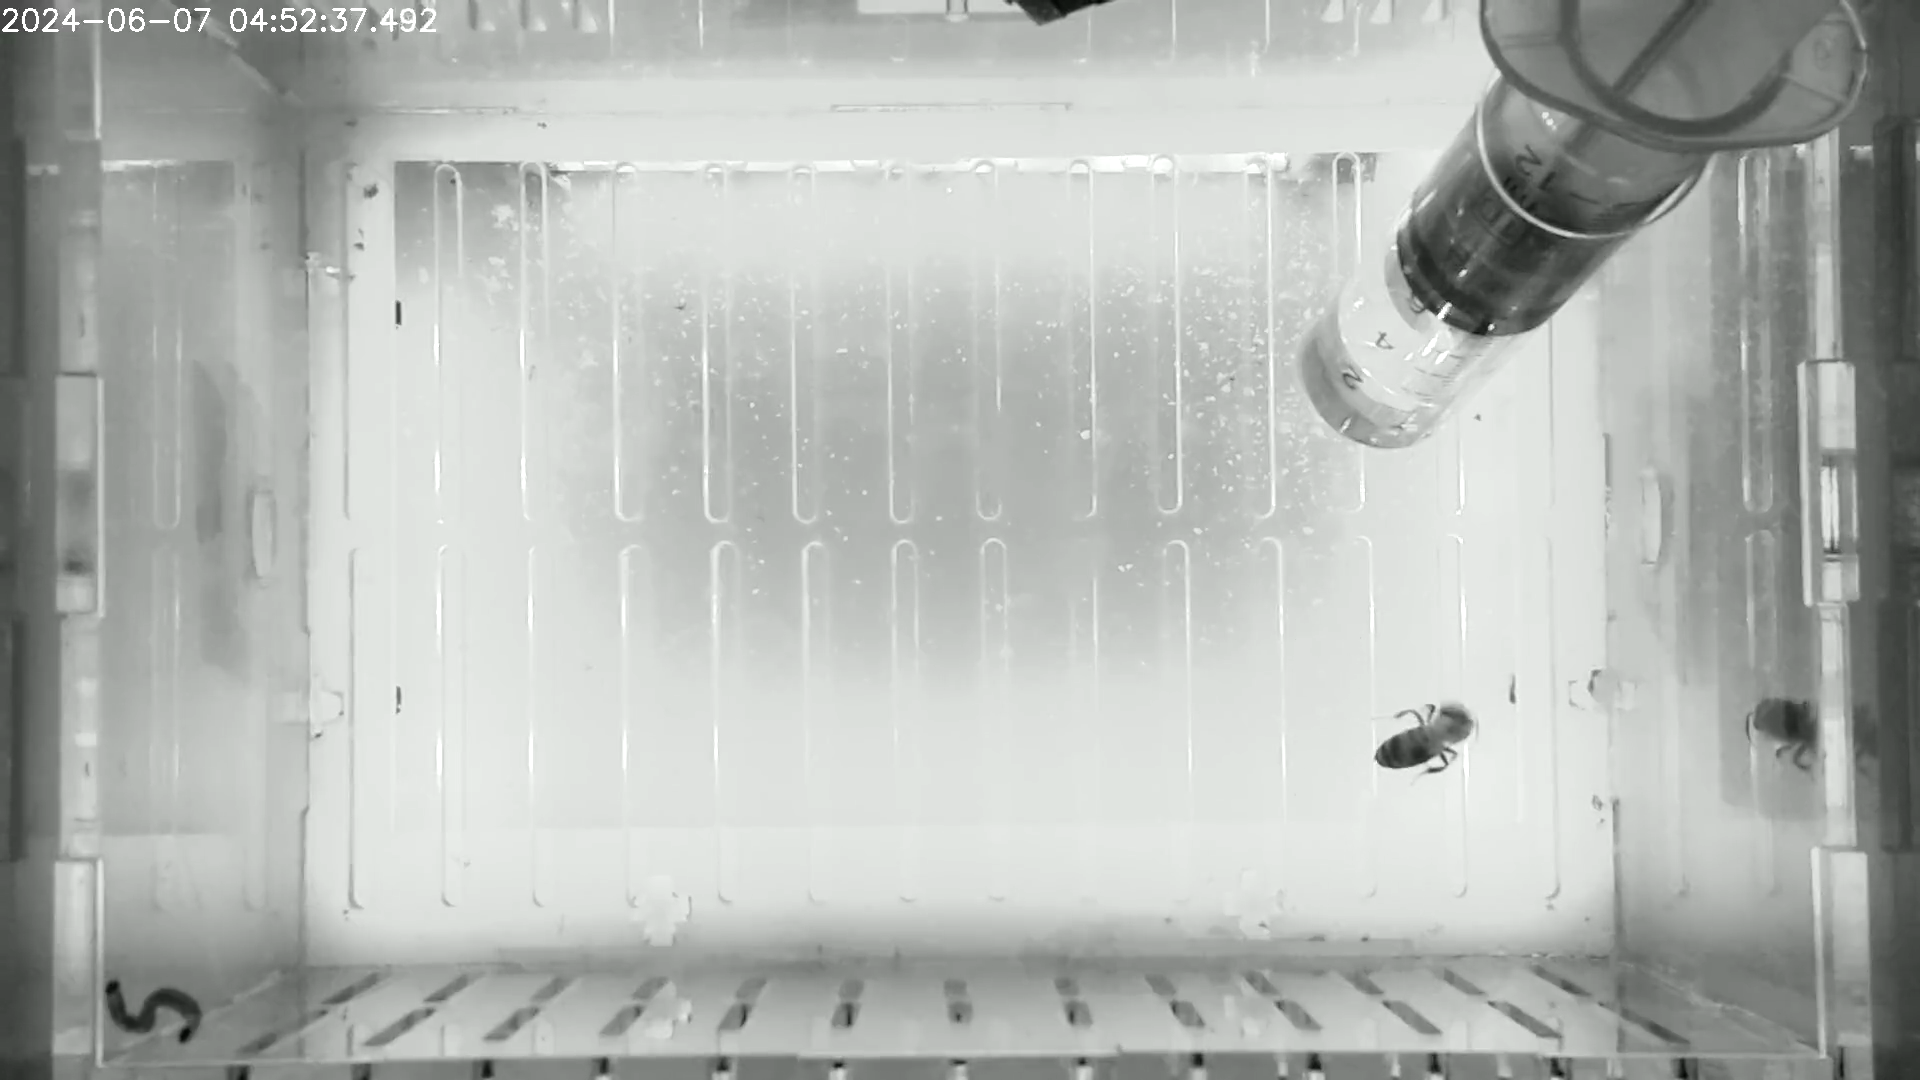bee: (1364, 694, 1490, 790)
feeder: (1291, 112, 1638, 459)
